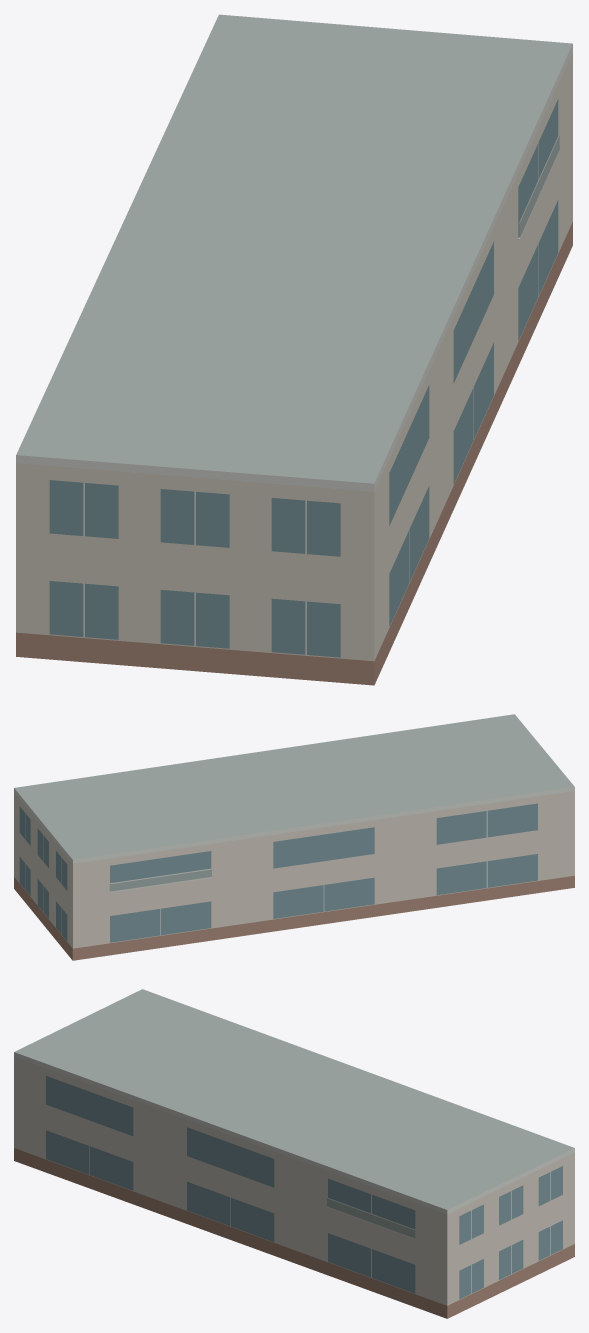
File: survey-upis-32723045.glb
3 views of the same model, one above another, from view 1: azimuth 30°, elevation 25°; view 2: azimuth 150°, elevation 25°; view 3: azimuth 270°, elevation 25° (orthographic). The views are drawn at different scales.
Parts seen in each view (by area): view 1: survey-upis-32723045.tmp; view 2: survey-upis-32723045.tmp; view 3: survey-upis-32723045.tmp.
Part boxes in pixels (x1,y1,x2,y2): survey-upis-32723045.tmp: (16,14,572,685); survey-upis-32723045.tmp: (14,714,574,960); survey-upis-32723045.tmp: (14,989,574,1318).
Bounding box in the file's own units: 26.57 × 6.1 × 28.49.
